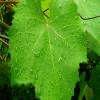grape leaf: (9, 1, 87, 99)
